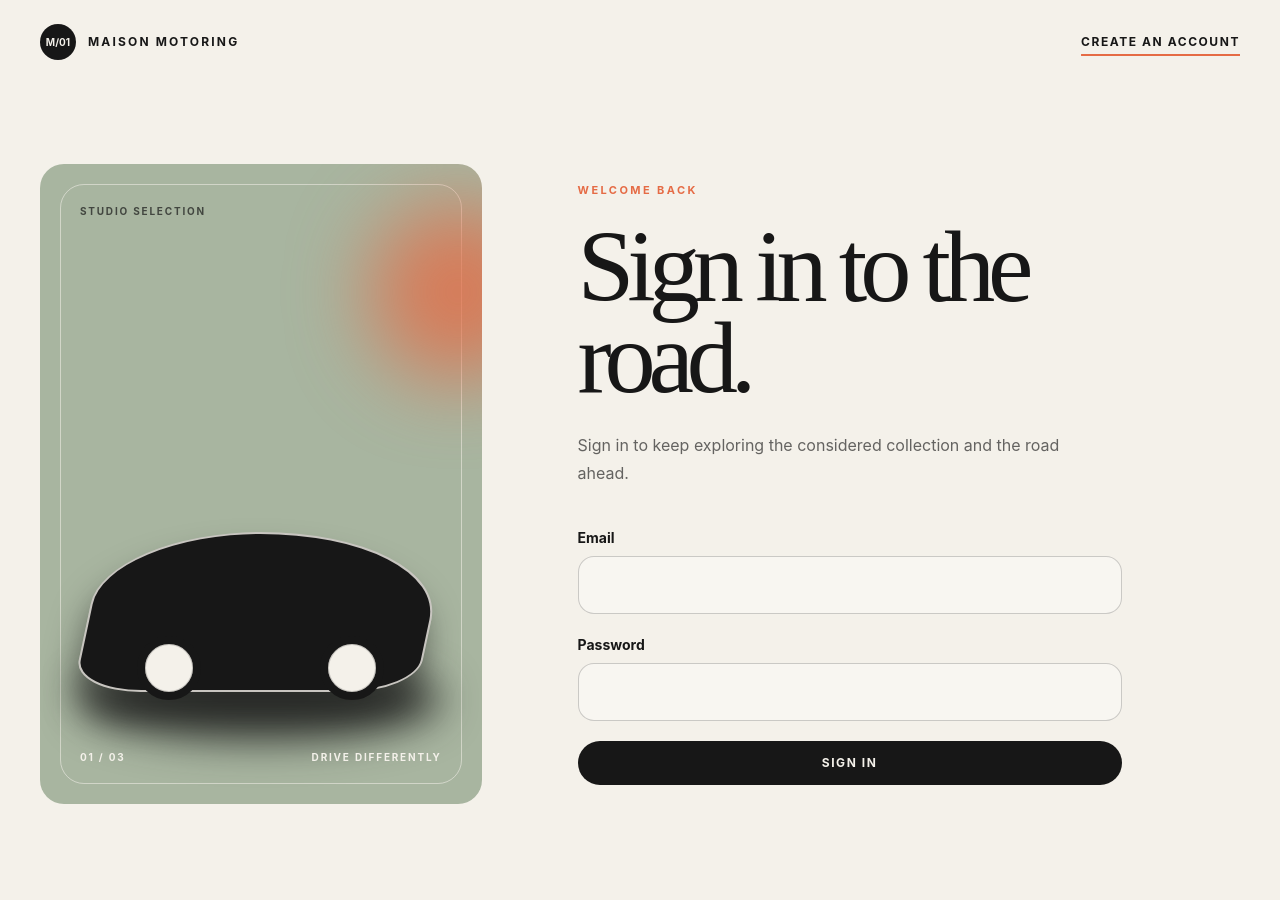
Test: frontend authentication › submits login credentials and handles invalid credentials safely
The width and height of the screenshot is (1280, 900).
In the field labelled "Email": (850, 585) 578,556 -> 1122,614, type "ada@example.test"
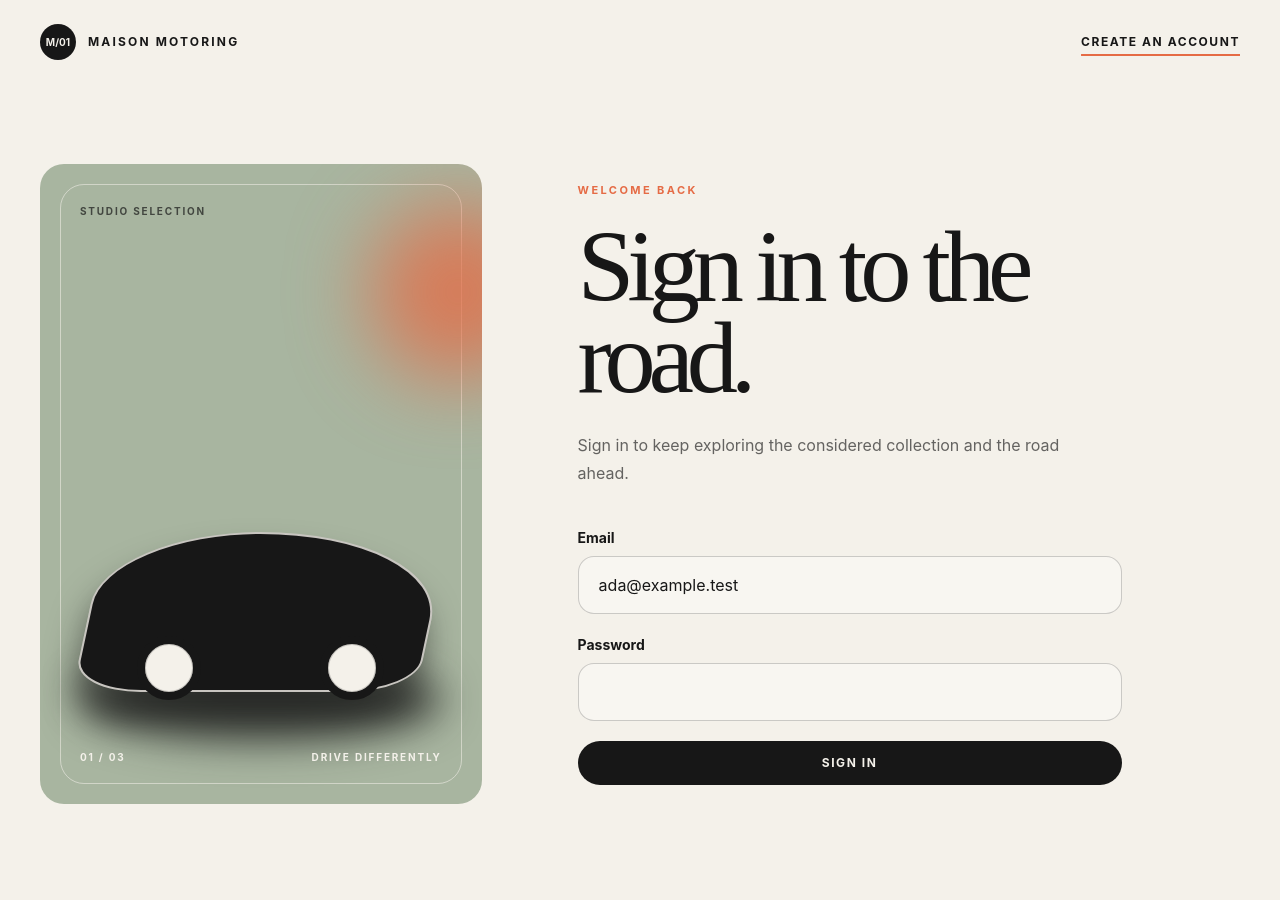
In the password field labelled "Password": (850, 692) 578,663 -> 1122,721, type "SecurePass1"
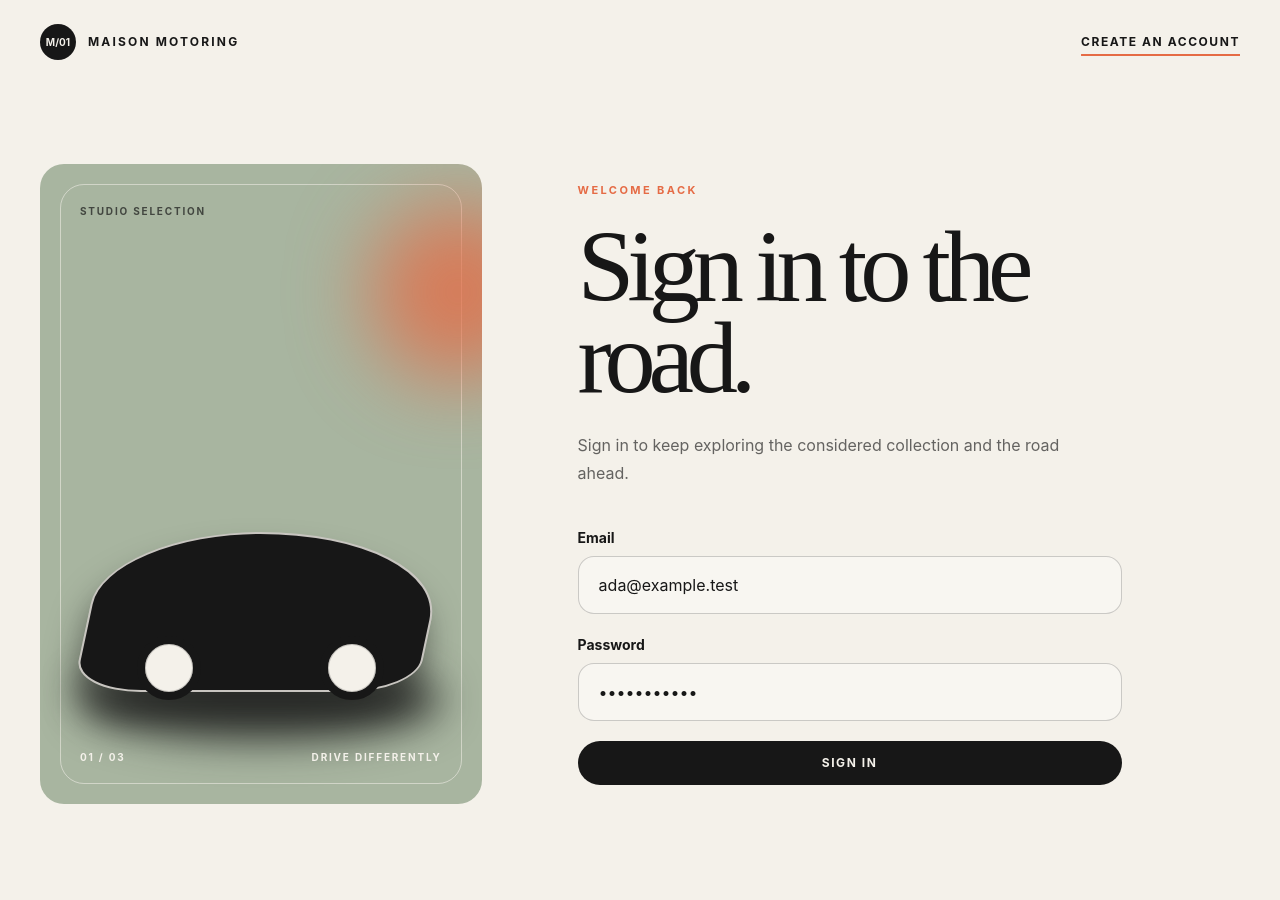
Submit the form named "login", box 578,527 -> 1122,785
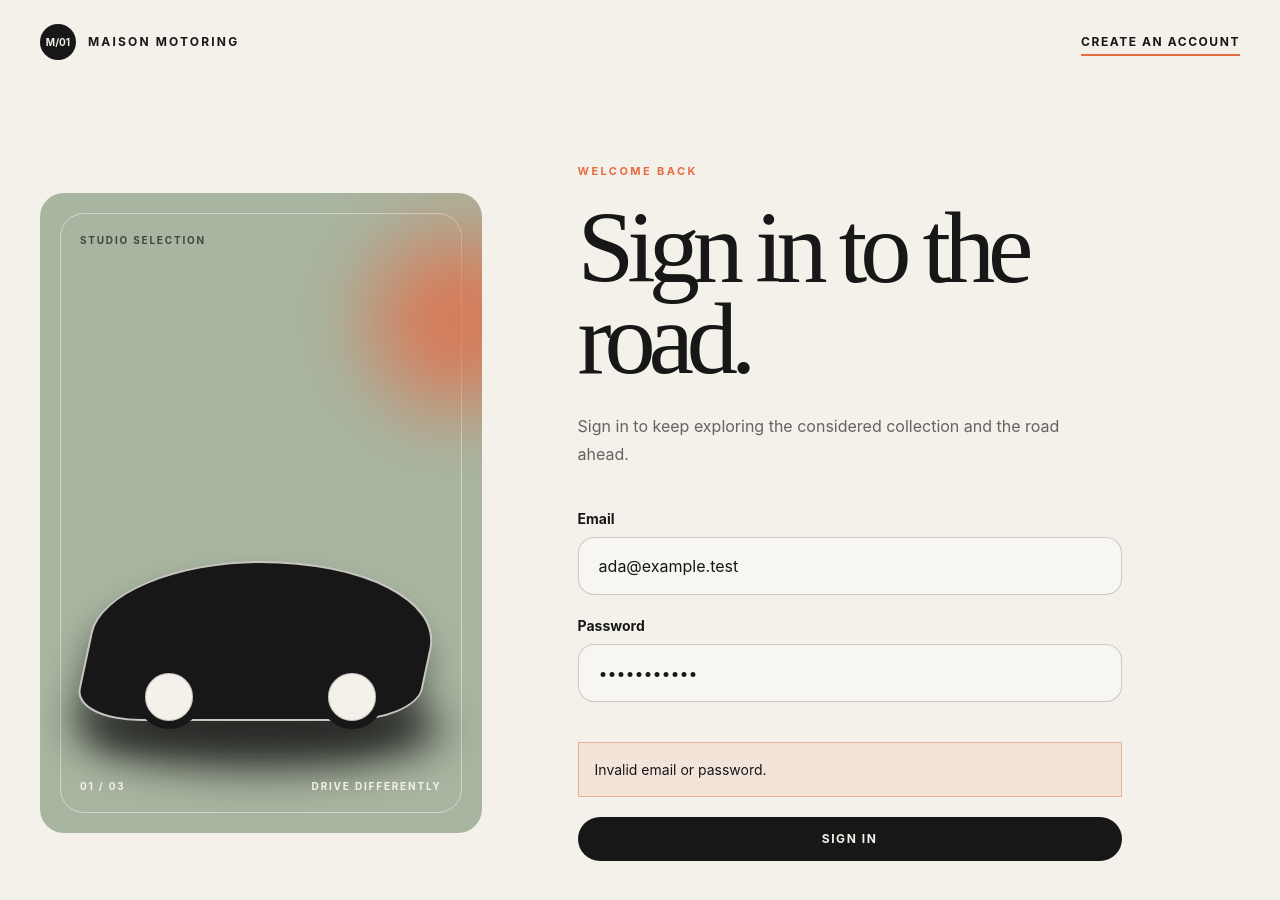
Expected: the message shows "Invalid email or password", 595,761 -> 767,778
